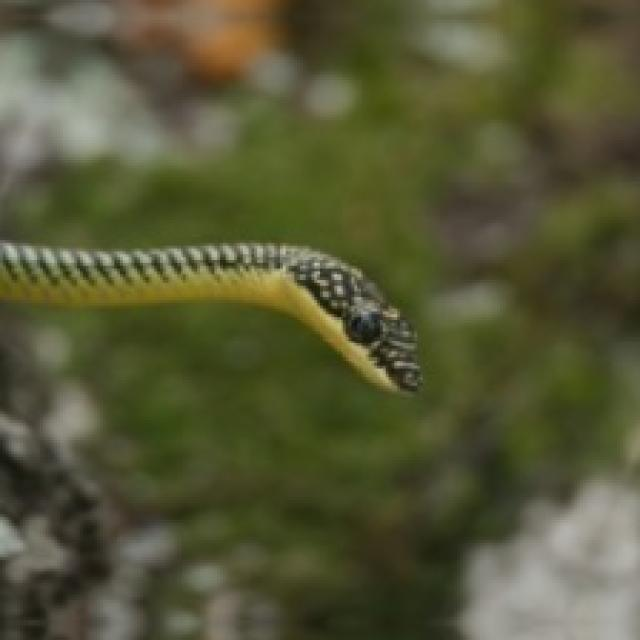paradise tree snake: (0, 243, 417, 389)
